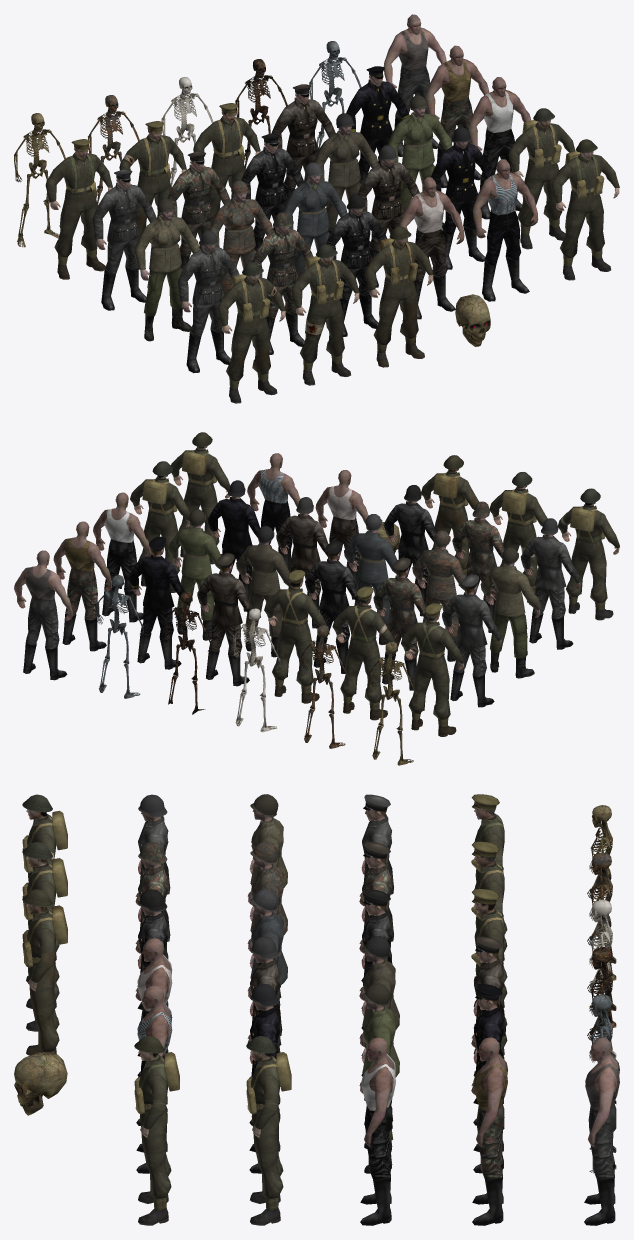
Rendered from character.fbx.
3 views of the same model, one above another, from view 1: azimuth 30°, elevation 25°; view 2: azimuth 150°, elevation 25°; view 3: azimuth 270°, elevation 25° (orthographic). The views are drawn at different scales.
Visible parts, largest first — view 1: Tommy2, Tommy3, Tommy4, Tommy5, Soldier1, Thug2, Soldier11, Tommy1, Soldier6, Soldier16, Soldier15, Thug1 (+22 smaller); view 2: Soldier1, Tommy3, Soldier2, Soldier3, Soldier11, Thug3, Soldier16, Soldier6, Soldier4, Soldier5, Thug4, Thug5 (+21 smaller); view 3: Tommy1, Tommy2, Tommy5, Thug3, Thug4, Thug5, Flying Skull, Tommy4, Soldier10, Tommy3, Soldier13, Soldier5 (+22 smaller).
Boxes of the visible parts, <box> form: Tommy2: <box>551,139,619,280</box>; Tommy3: <box>217,262,285,403</box>; Tommy4: <box>291,244,359,385</box>; Tommy5: <box>365,226,433,367</box>; Soldier1: <box>45,139,112,279</box>; Thug2: <box>473,159,538,301</box>; Soldier11: <box>134,198,199,341</box>; Tommy1: <box>508,108,575,249</box>; Soldier6: <box>92,169,156,310</box>; Soldier16: <box>177,230,239,373</box>; Soldier15: <box>431,127,493,269</box>; Thug1: <box>399,177,464,319</box>; Soldier1: <box>401,603,464,736</box>; Tommy3: <box>558,488,619,620</box>; Soldier2: <box>332,586,395,720</box>; Soldier3: <box>264,569,326,703</box>; Soldier11: <box>480,547,541,678</box>; Thug3: <box>14,550,72,680</box>; Soldier16: <box>520,518,580,649</box>; Soldier6: <box>442,574,502,707</box>; Soldier4: <box>197,553,256,686</box>; Soldier5: <box>129,536,187,669</box>; Thug4: <box>53,521,111,651</box>; Thug5: <box>93,492,151,622</box>; Tommy1: <box>246,1036,291,1225</box>; Tommy2: <box>134,1036,179,1225</box>; Tommy5: <box>22,889,67,1055</box>; Thug3: <box>584,1037,619,1225</box>; Thug4: <box>472,1037,507,1225</box>; Thug5: <box>360,1037,395,1225</box>; Flying Skull: <box>14,1051,67,1115</box>; Tommy4: <box>22,842,67,1031</box>; Soldier10: <box>359,983,399,1173</box>; Tommy3: <box>22,794,67,982</box>; Soldier13: <box>247,888,287,1052</box>; Soldier5: <box>471,984,504,1173</box>.
Bounding box in the file's own units: 599 × 175 × 541.
